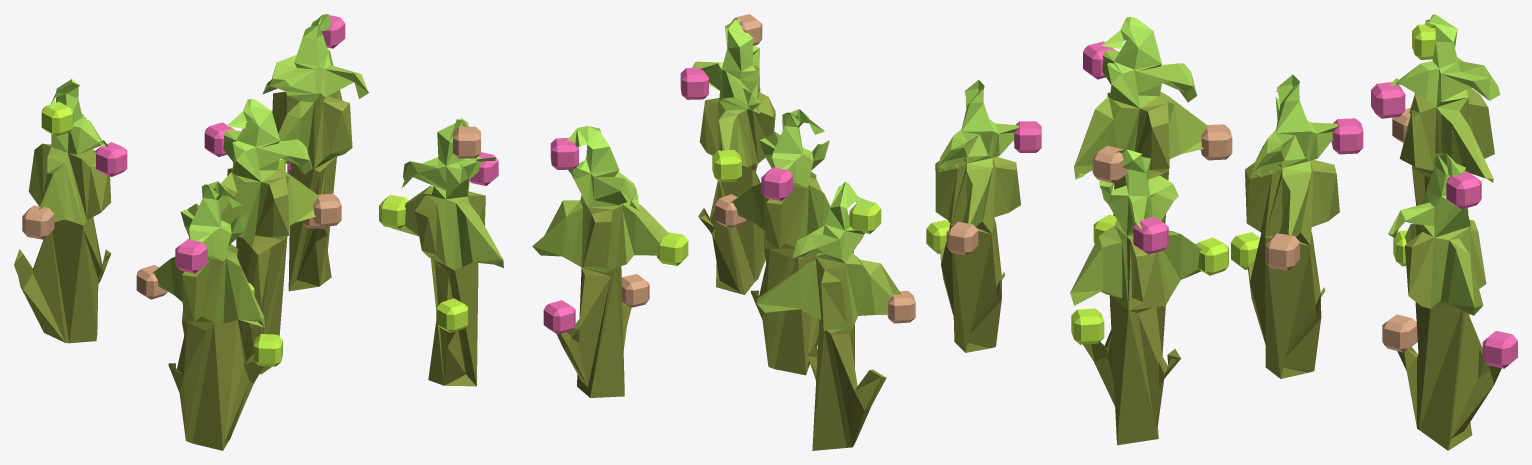
Rendered from Natural_A.fbx.
The picture shows the model from 3 angles, left to right: view 1: azimuth 30°, elevation 25°; view 2: azimuth 150°, elevation 25°; view 3: azimuth 270°, elevation 25°; orthographic projection. The views are drawn at different scales.
Parts seen in each view (by area): view 1: Cube; view 2: Cube; view 3: Cube.
Part boxes in pixels (x1,y1,x2,y2): Cube: (14, 14, 503, 450); Cube: (532, 14, 1041, 450); Cube: (1070, 14, 1517, 450).
Size of the model in its own units: 0.7381 by 0.5346 by 0.7348.
